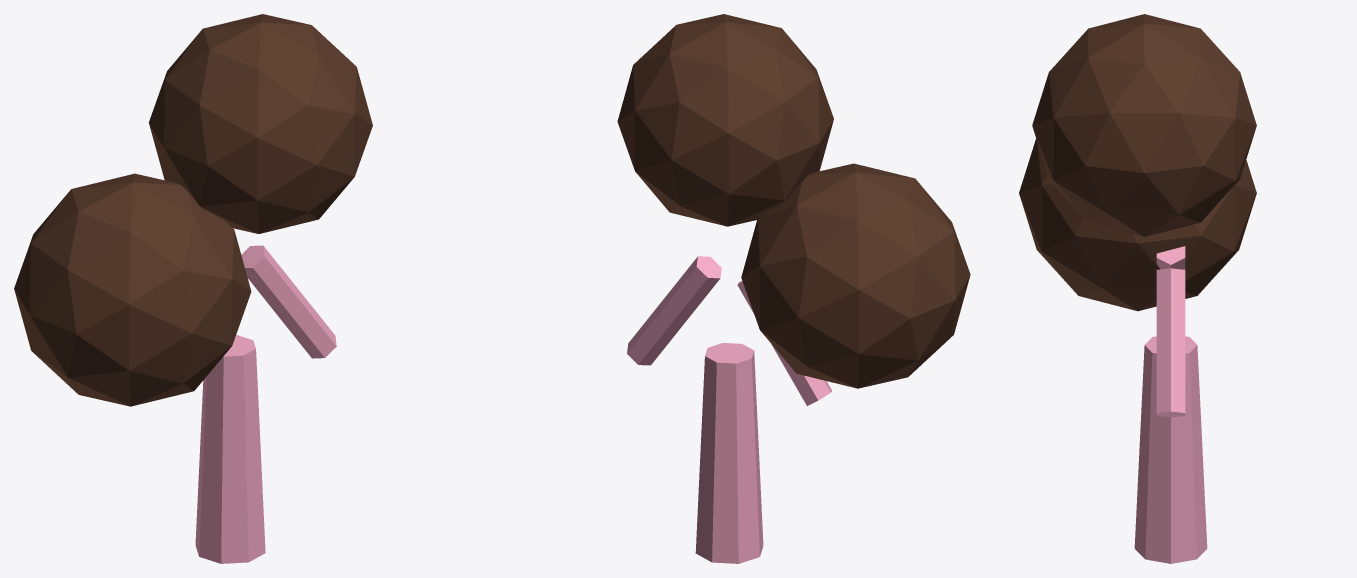
Rendered from M05_CherryBlossom.fbx.
3 renders of one model, left to right at view 1: azimuth 30°, elevation 25°; view 2: azimuth 150°, elevation 25°; view 3: azimuth 270°, elevation 25°, orthographic. The views are drawn at different scales.
Parts seen in each view (by area): view 1: M05_CherryBlossom; view 2: M05_CherryBlossom; view 3: M05_CherryBlossom.
Boxes of the visible parts, box(x1,y1,x2,y2) form: M05_CherryBlossom: box(14, 14, 372, 563); M05_CherryBlossom: box(617, 14, 970, 563); M05_CherryBlossom: box(1019, 14, 1256, 563).
Bounding box in the file's own units: 7.7 × 8.9 × 5.2.
Materials: 1 (1 with a texture image).
